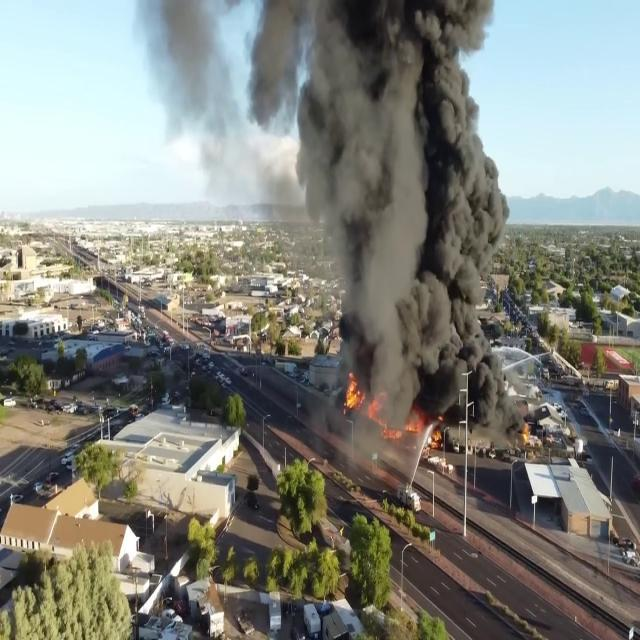Fire: (404, 402, 444, 448), (342, 367, 366, 413)
Smoke: (242, 1, 534, 431)
